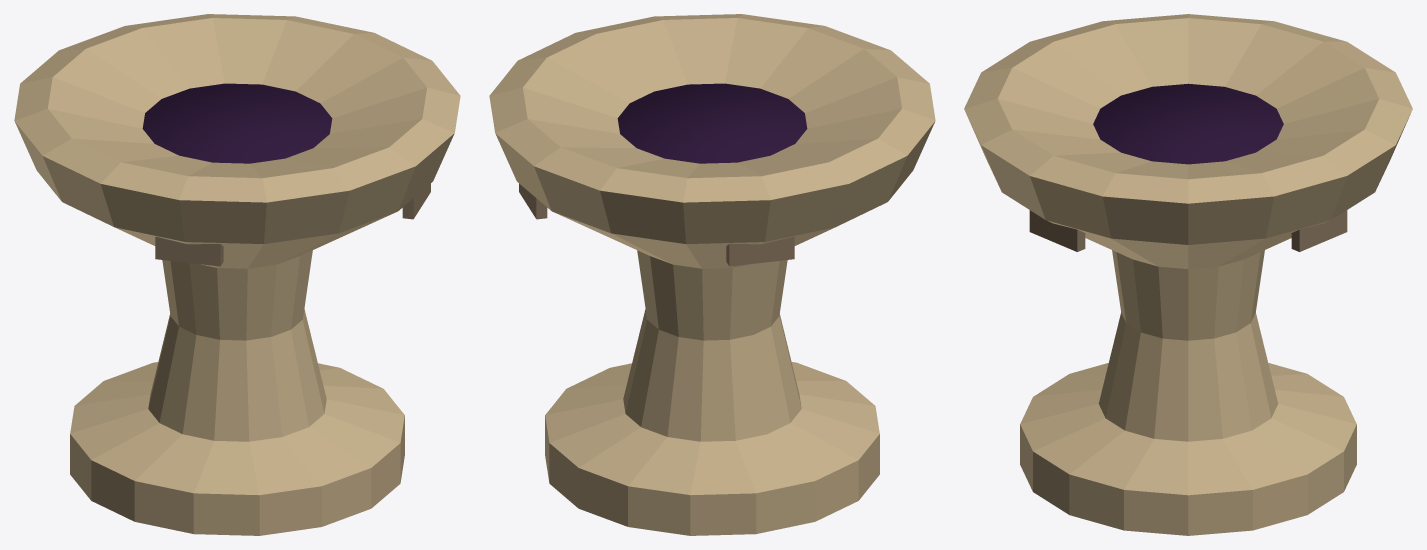
File: stone_font.glb
The picture shows the model from 3 angles, left to right: view 1: azimuth 30°, elevation 25°; view 2: azimuth 150°, elevation 25°; view 3: azimuth 270°, elevation 25°; orthographic projection.
Parts seen in each view (by area): view 1: stone_font; view 2: stone_font; view 3: stone_font.
Part boxes in pixels (bbox=[...]): stone_font: bbox=[14, 14, 460, 535]; stone_font: bbox=[489, 14, 935, 535]; stone_font: bbox=[964, 14, 1412, 535].
Size of the model in its own units: 0.8 by 0.72 by 0.8.
